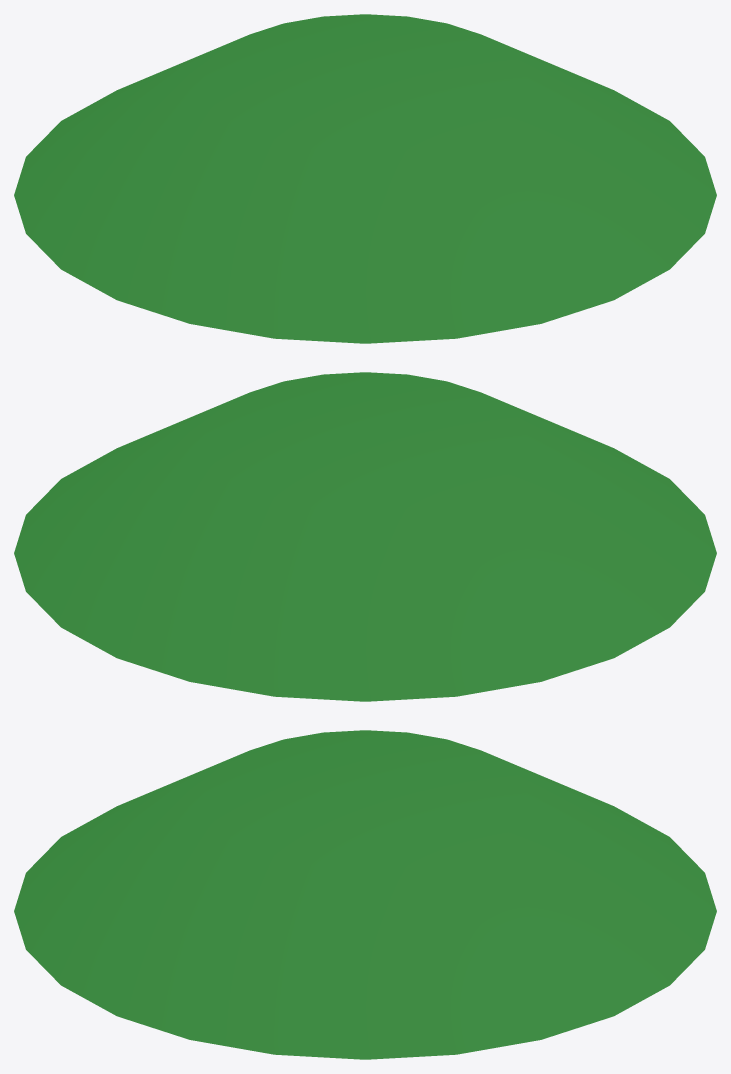
File: spawn.fbx
3 renders of one model, top to bottom at view 1: azimuth 30°, elevation 25°; view 2: azimuth 150°, elevation 25°; view 3: azimuth 270°, elevation 25°, orthographic.
Parts seen in each view (by area): view 1: Révolution_NURBS_1; view 2: Révolution_NURBS_1; view 3: Révolution_NURBS_1.
Boxes of the visible parts, bbox=[...] form: Révolution_NURBS_1: bbox=[14, 14, 716, 343]; Révolution_NURBS_1: bbox=[14, 372, 716, 701]; Révolution_NURBS_1: bbox=[14, 730, 716, 1059].
Size of the model in its own units: 575 by 102 by 575.
